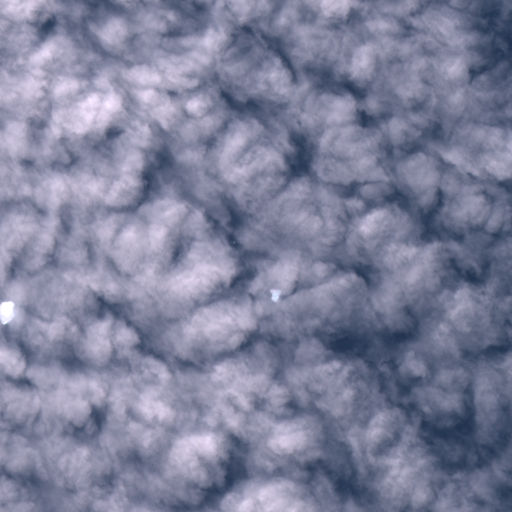Iceberg: (0, 302, 13, 323), (271, 290, 279, 301)
